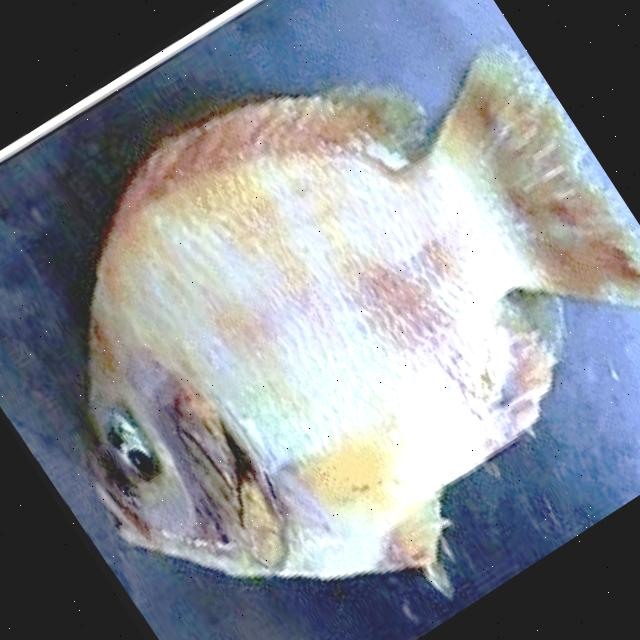Tilapia Lake Virus -TiLV-: (84, 45, 640, 593)
